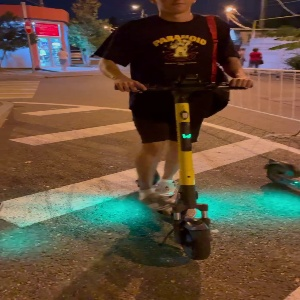human on a scooter: (88, 1, 256, 261)
